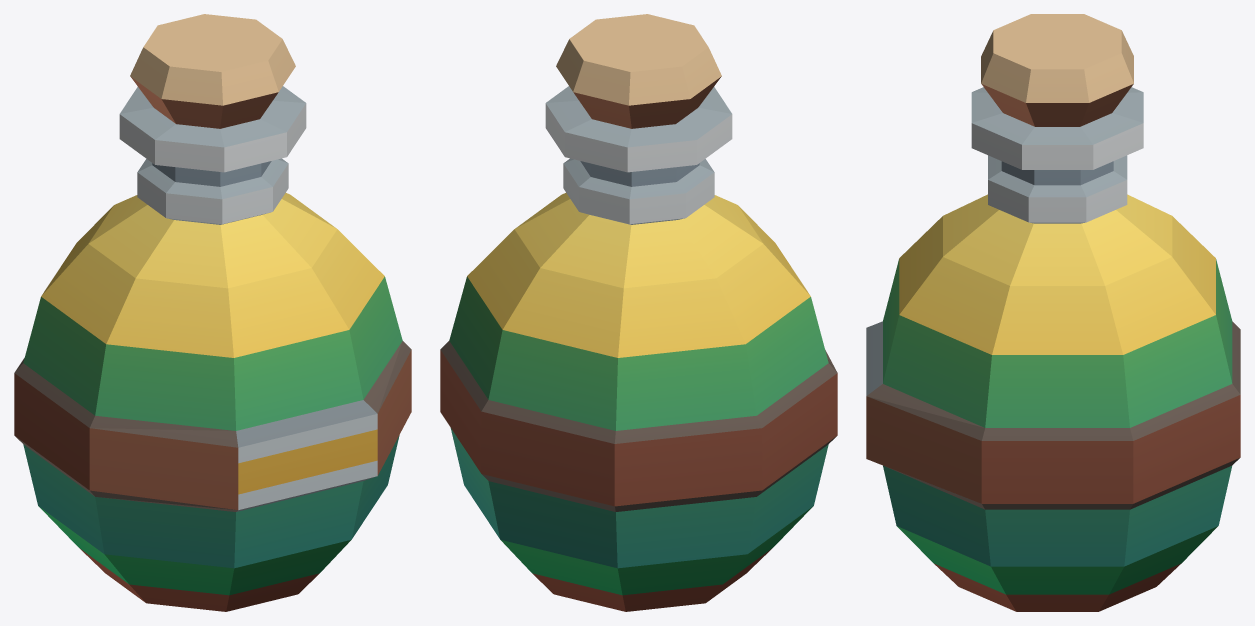
File: potion_large_lime.glb
The picture shows the model from 3 angles, left to right: view 1: azimuth 30°, elevation 25°; view 2: azimuth 150°, elevation 25°; view 3: azimuth 270°, elevation 25°; orthographic projection.
Visible parts, largest first — view 1: model; view 2: model; view 3: model.
Part boxes in pixels (x1,y1,x2,y2): model: (14,14,411,611); model: (440,14,837,611); model: (866,14,1240,611).
Size of the model in its own units: 0.72 by 1.12 by 0.72.
Materials: 1 (1 with a texture image).
